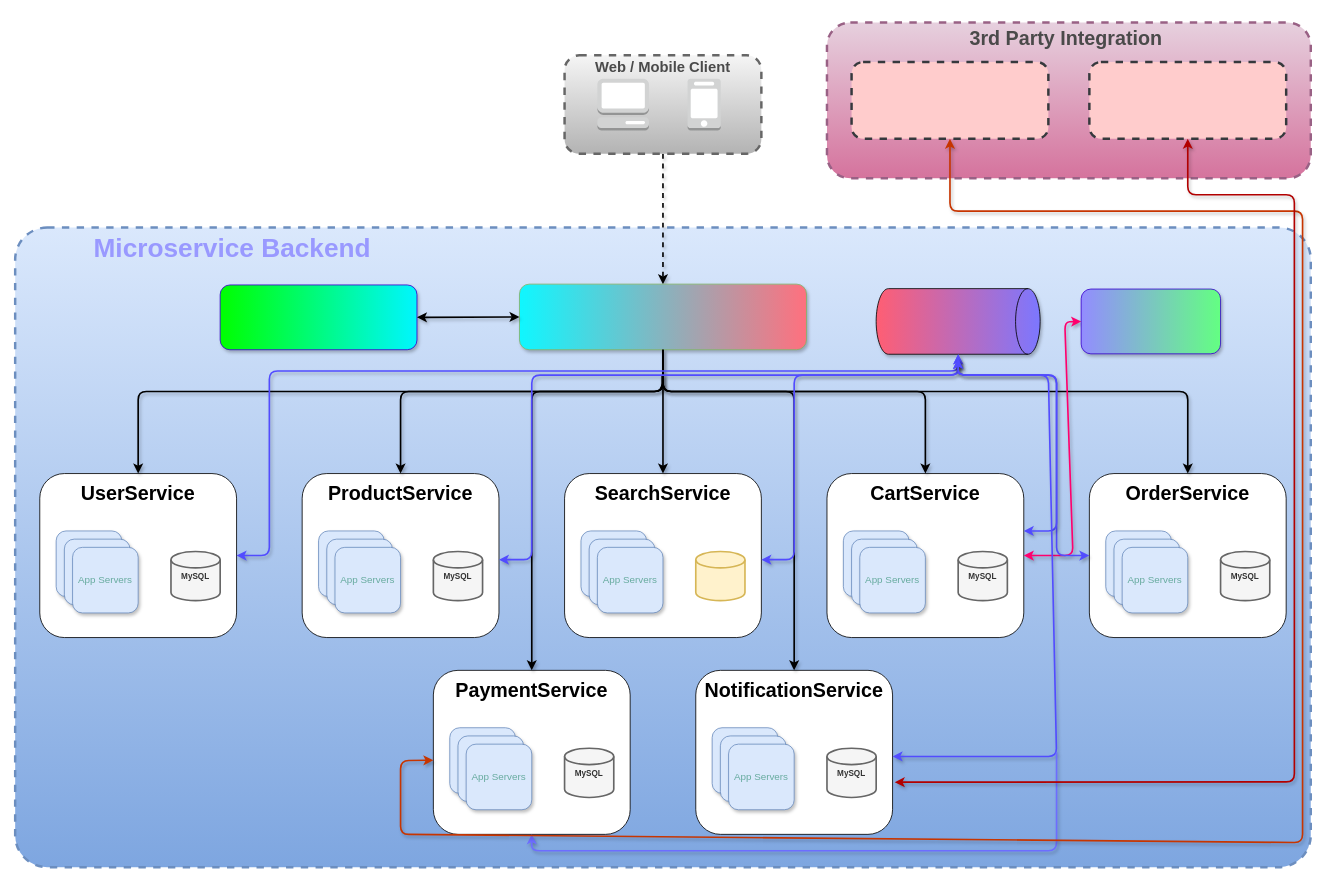
Image size: 1330x890. Some labels were removed from this diagram. Here are the shapes that lost their labels. From the top down, the centre of each, then its label:
At (949,100): "Payment Gateway".
At (1187,100): "SMTP Server".
At (319,318): "Service Discovery".
At (663,317): "API Gateway + Load Balancer".
At (959,322): "Kafka".
At (1151,322): "Redis".
At (720,575): "NoSQL".
